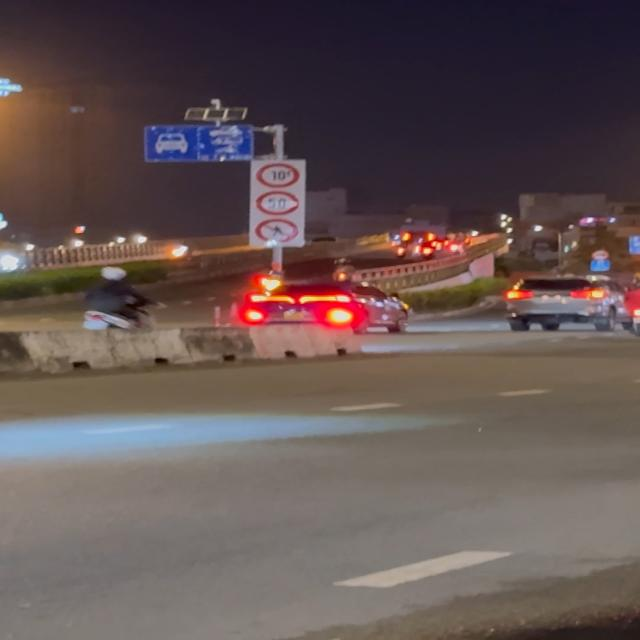Bien bao cam nguoi di bo: (254, 218, 299, 245)
Bien bao toc do toi da cho phep: (256, 190, 301, 216)
